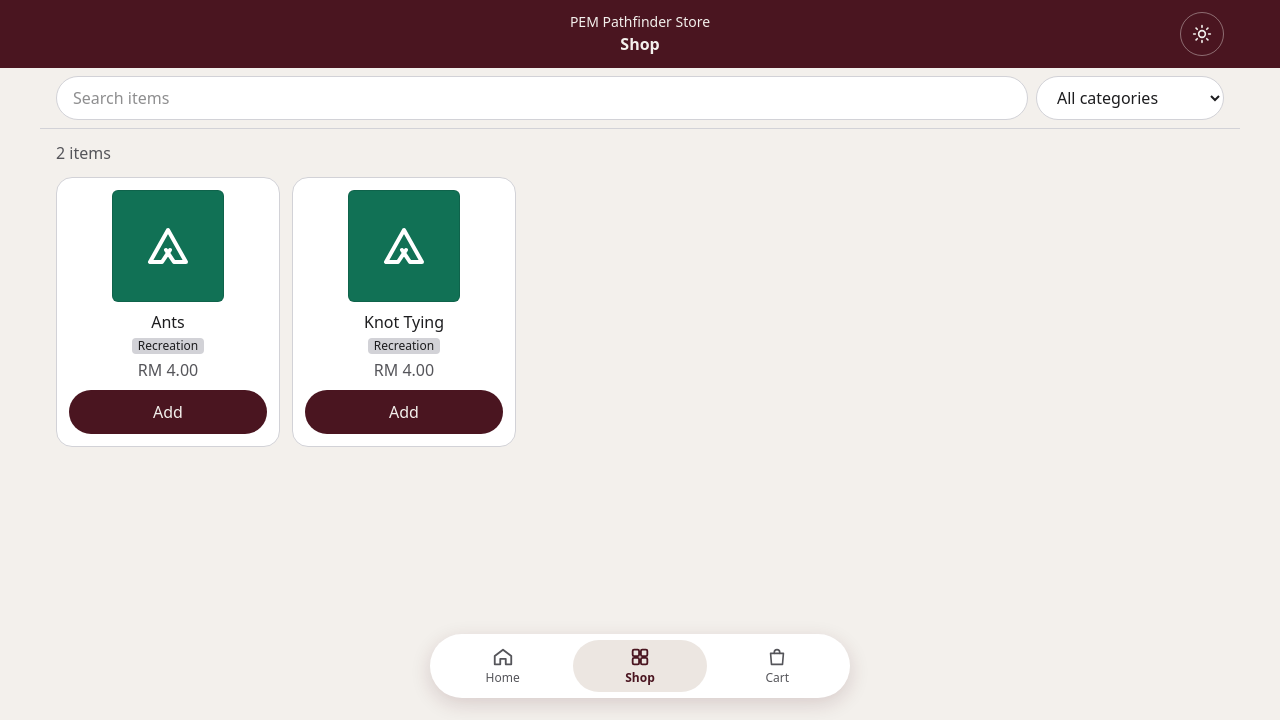
Test case: App › keeps a typed search in the hidden catalogue and focuses the Cart tab on return
Type "knot" into the search field labelled "Search items".
click(542, 98); type("knot")  # box [56,76,1028,120]
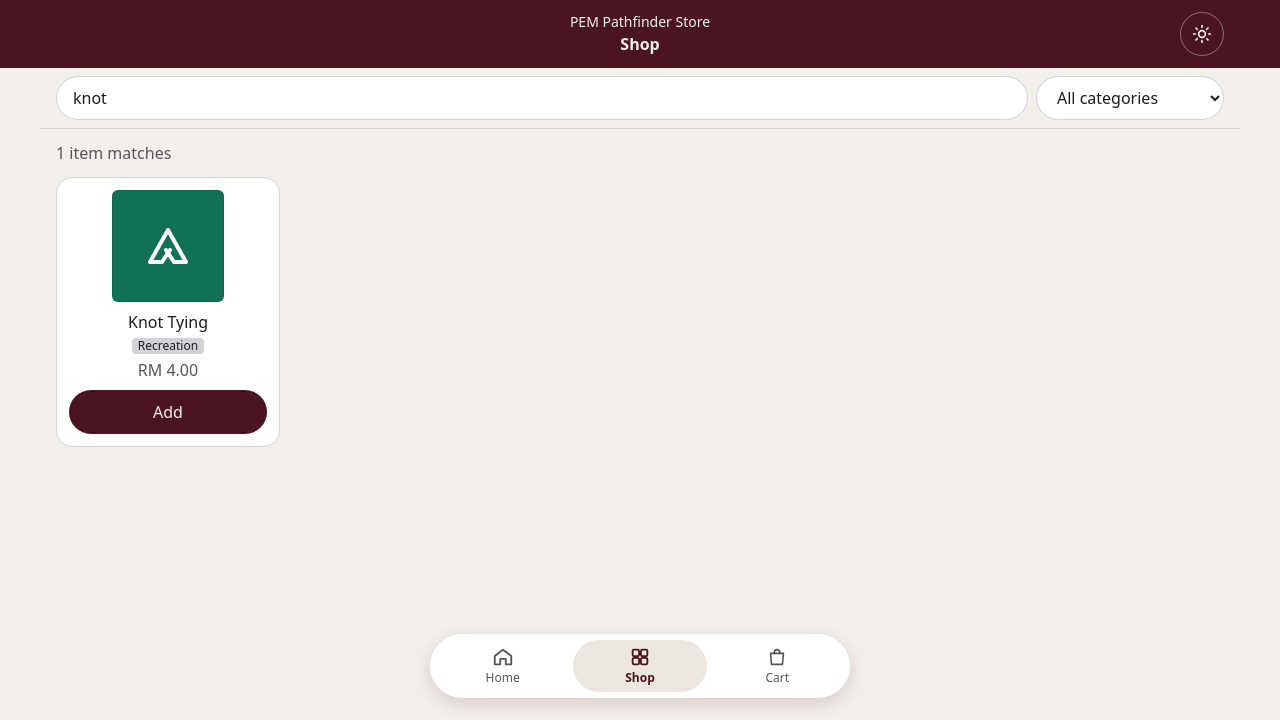
Click the button with aria-label "Add Knot Tying".
click(168, 412)  # box [69,390,267,434]
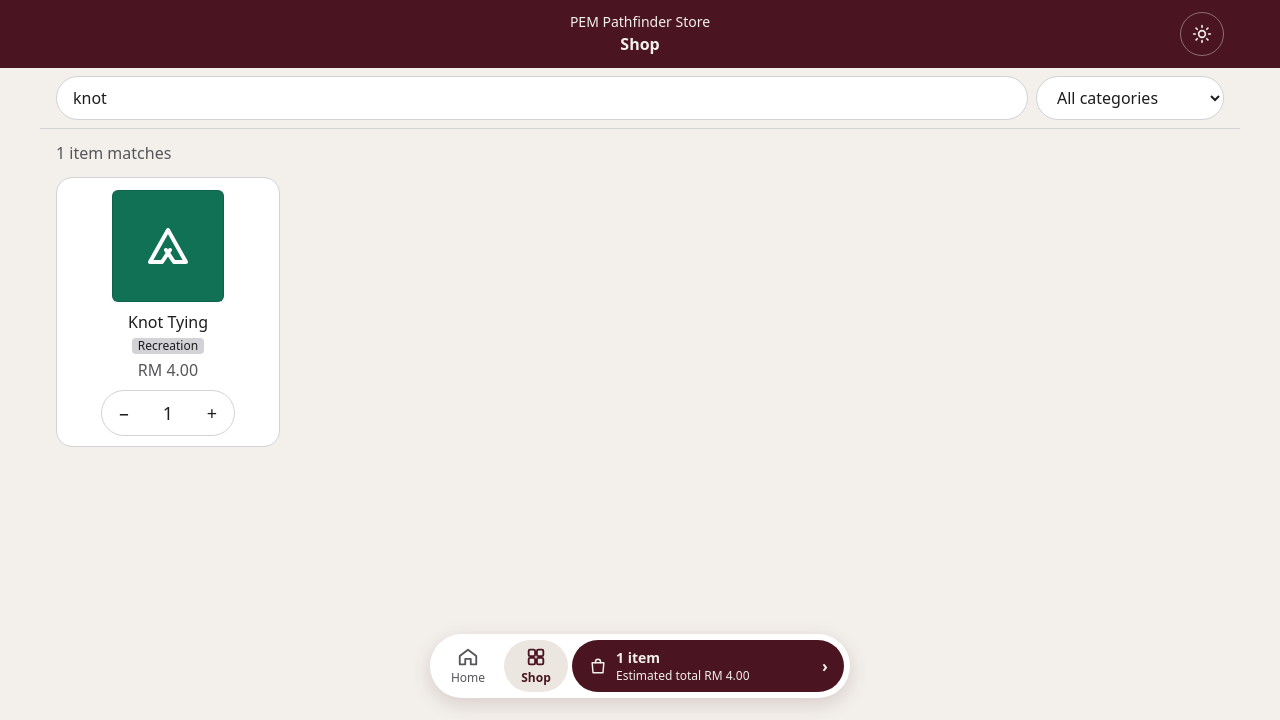
Click the link with aria-label "Cart, ".
click(708, 666)  # box [572,640,844,692]
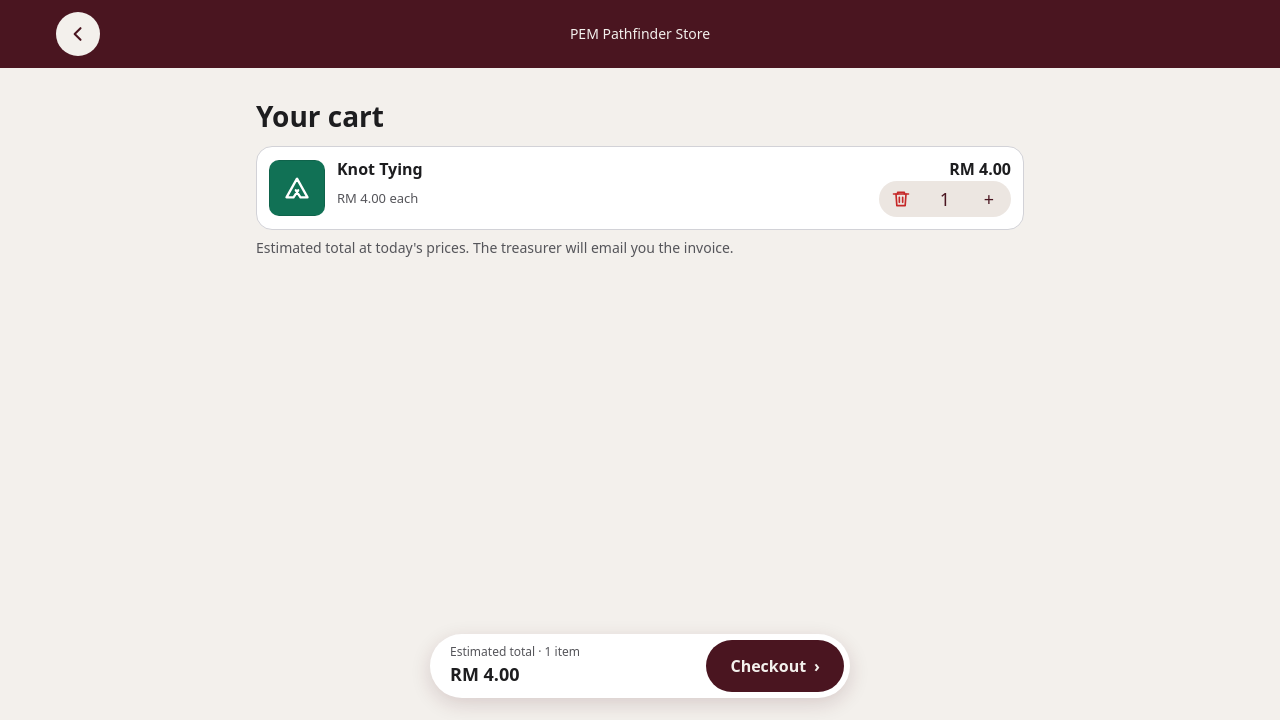
Check: the heading "Your cart" is shown, box [256,97,384,135]
Click the link named "Back".
click(78, 34)  # box [56,12,100,56]
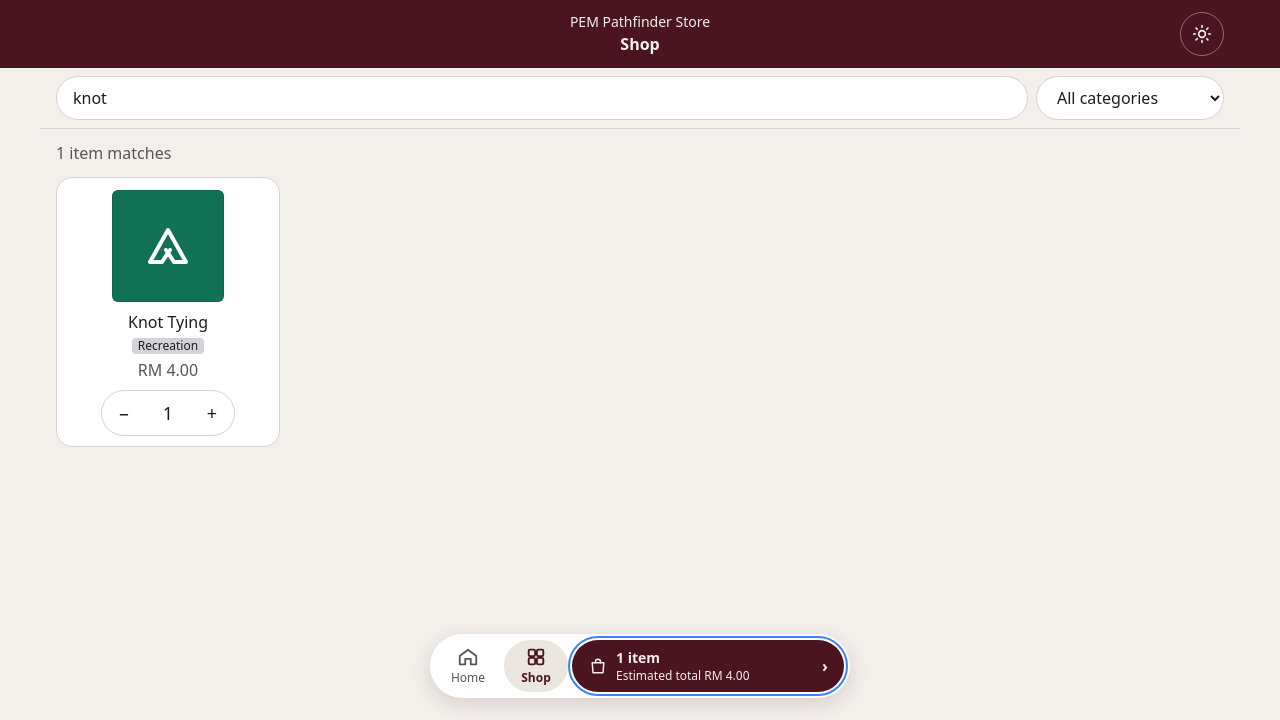
Check: the heading "Your cart" is gone
